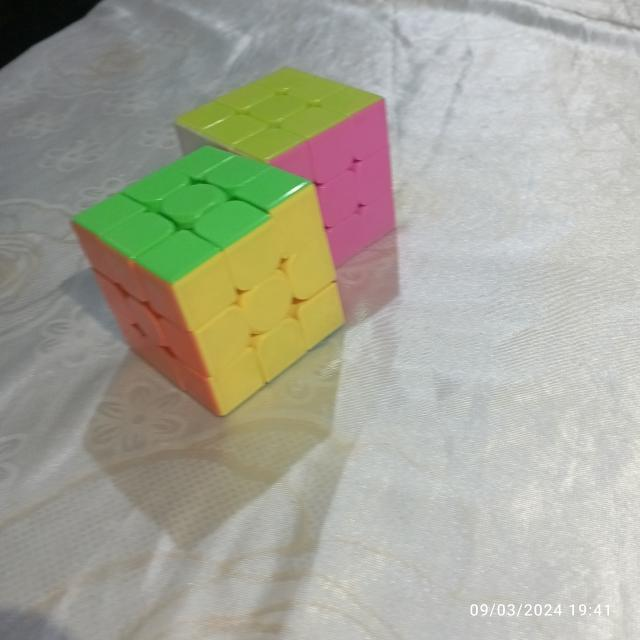Rub: (68, 140, 351, 424), (169, 62, 397, 284)
